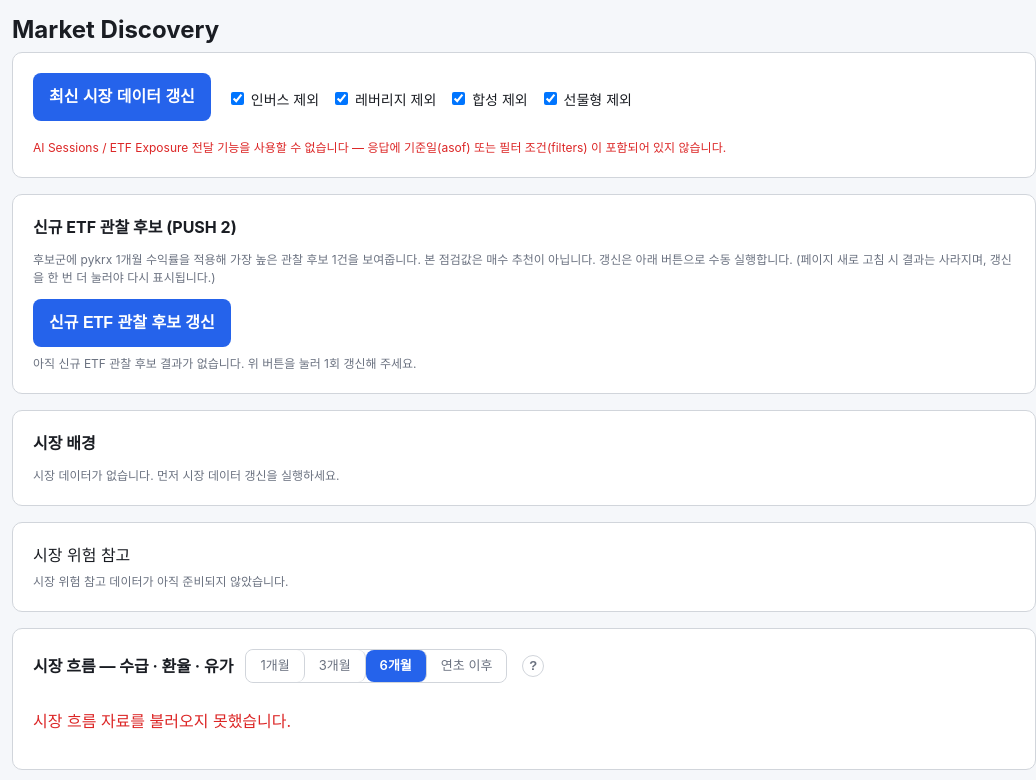
Test: 시장 데이터 갱신 완료 사유 표시 (POC5-10) › 완료여도 보유 개별주 가격 갱신 실패 사유가 있으면 '확인 필요'로 보인다
Click the button "최신 시장 데이터 갱신" at (122, 97), box [33, 73, 211, 121]
Wait 4100 ms
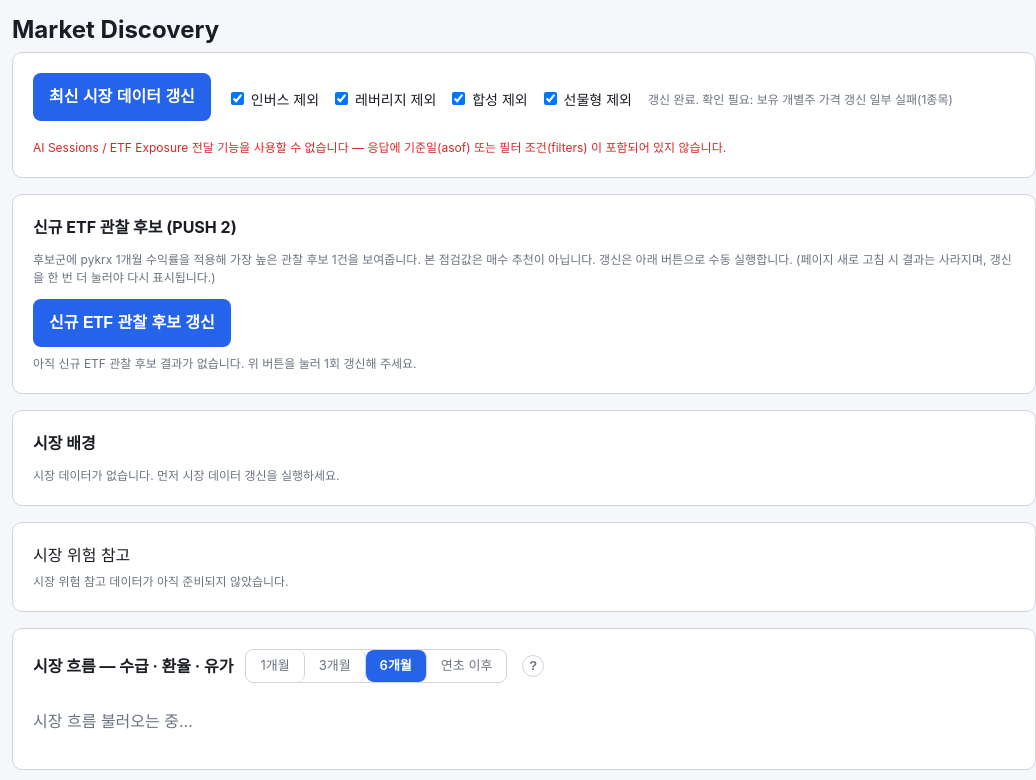
Expected: the text "갱신 완료. 확인 필요: 보유 개별주 가격 갱신 일부 실패(1종목)" is shown, [648, 91, 953, 109]
